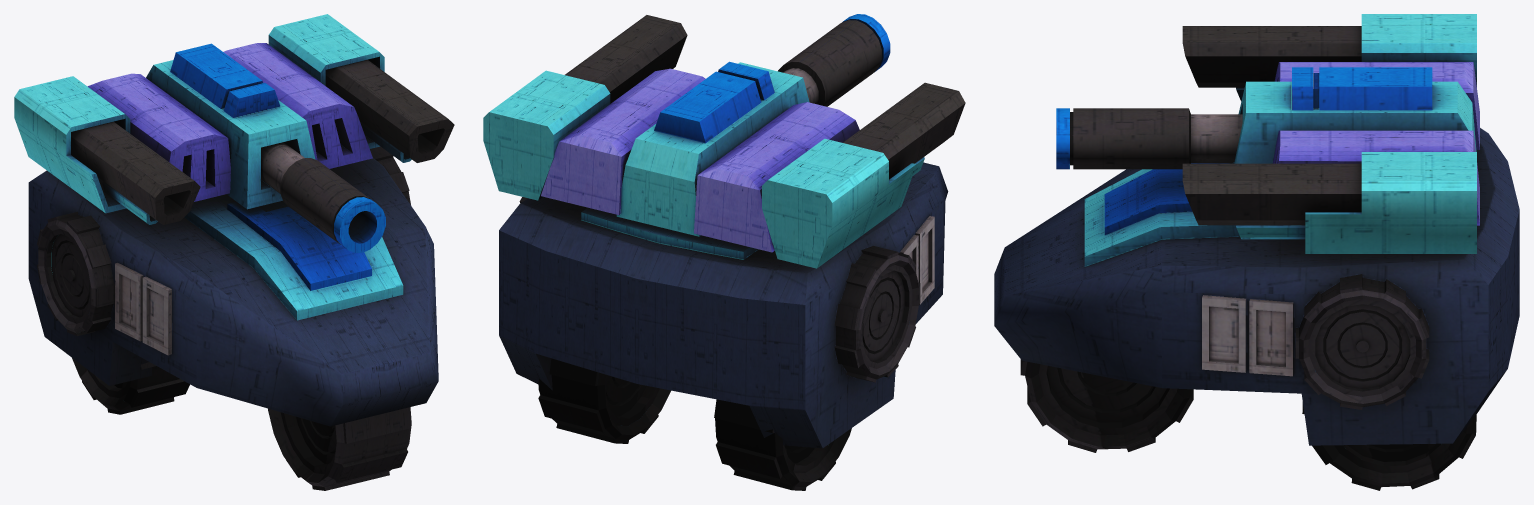
The model's file is PlayerA5.obj.
3 renders of one model, left to right at view 1: azimuth 30°, elevation 25°; view 2: azimuth 150°, elevation 25°; view 3: azimuth 270°, elevation 25°, orthographic. The views are drawn at different scales.
Parts seen in each view (by area): view 1: Object001, Object002, Object004, Object003; view 2: Object001, Object002, Object003; view 3: Object001, Object002, Object004, Object003.
Boxes of the visible parts, x1,y1,x2,y2 form: Object001: (28, 43, 438, 426); Object002: (14, 14, 454, 224); Object004: (268, 407, 411, 490); Object003: (72, 358, 189, 414); Object001: (499, 14, 948, 448); Object002: (483, 15, 965, 268); Object003: (538, 358, 851, 490); Object001: (994, 62, 1519, 445); Object002: (1182, 14, 1476, 253); Object004: (1020, 359, 1193, 452); Object003: (1302, 402, 1476, 490).
Bounding box in the file's own units: 93.13 × 89.55 × 119.
1 material, 1 textured.
